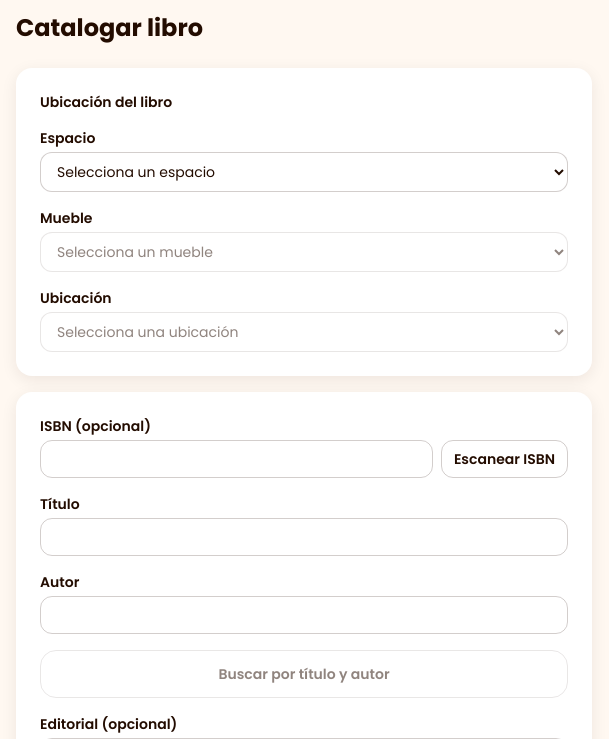
Test: CatalogarLibroComponent › autocompletado de metadatos a partir del ISBN › un fallo de la búsqueda de metadatos no bloquea la edición manual del formulario
The image size is (609, 739).
Type "0000000000000" into the field with id "isbn" at (236, 459), box 40,440 -> 433,478
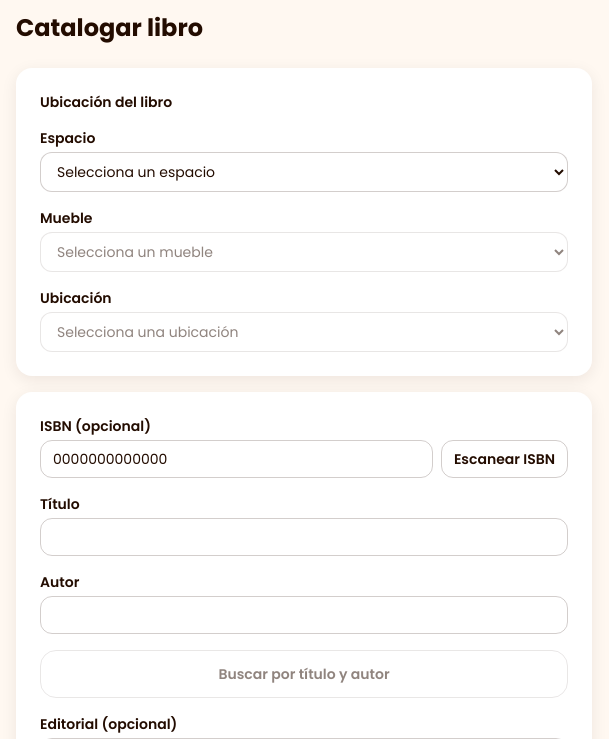
Leave the field with id "isbn", box 40,440 -> 433,478
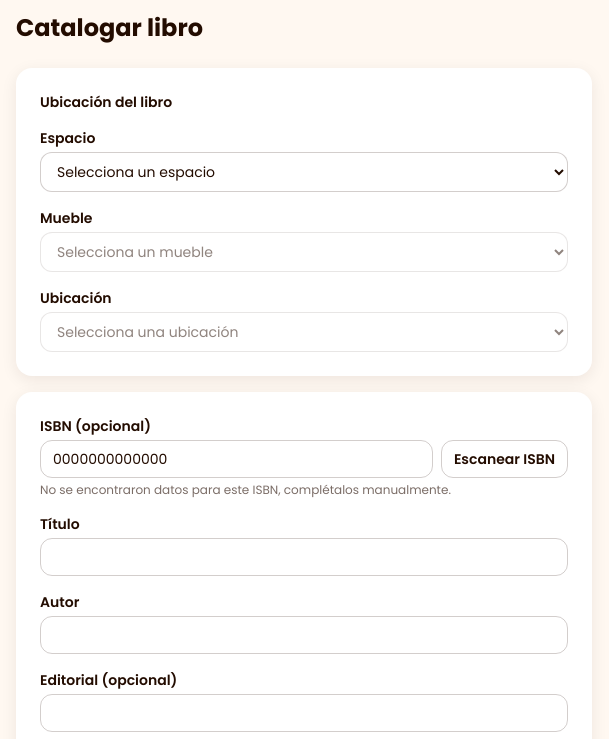
Check: the text "No se encontraron datos" is shown, box 40,481 -> 451,498
